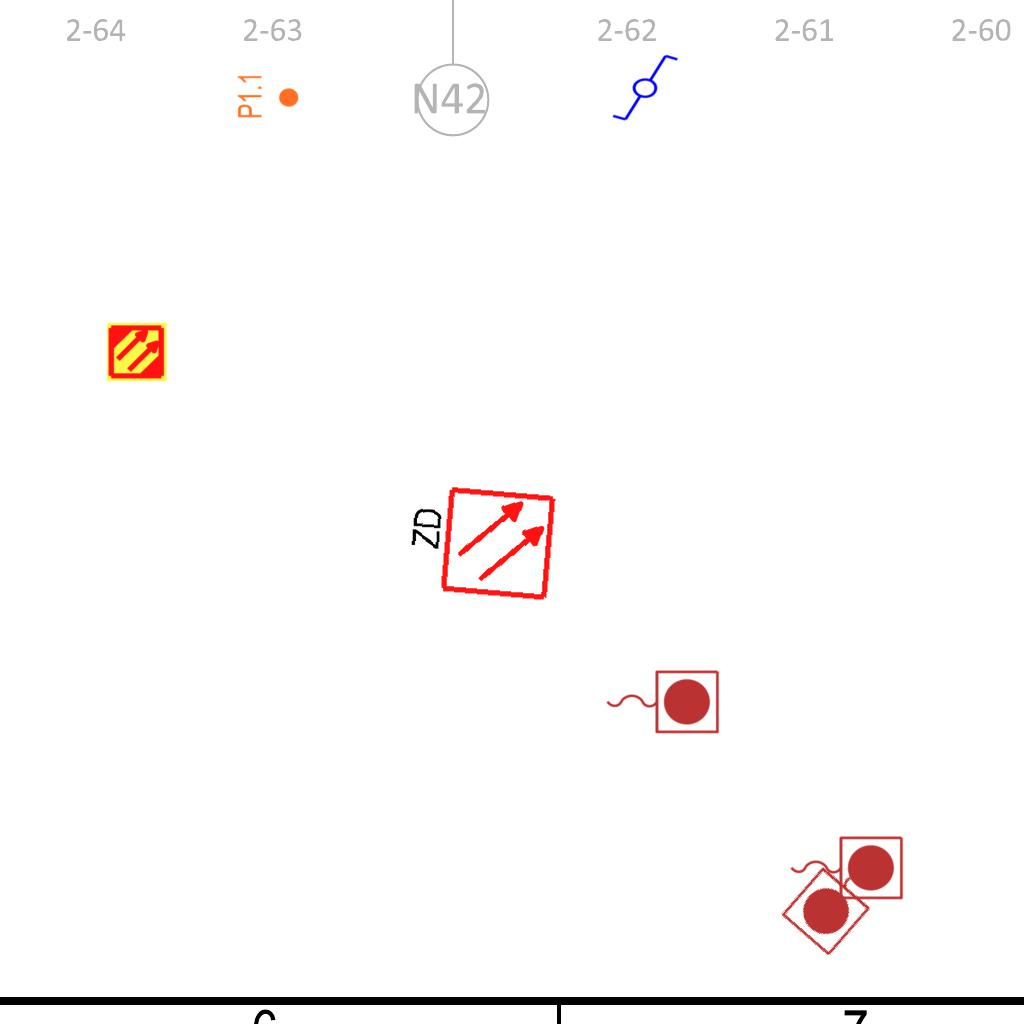ASR_Ansaugrauchmelder: (106, 321, 168, 383)
Downlight_LED_Einbauleuchten_Flur: (236, 73, 300, 119)
Wechselschalter: (602, 51, 680, 123)
ZD_Melder_in_Zwischendecke_mit_Revisionsoeffnung_mind_40_x_40_cm: (399, 480, 559, 607)
Zugtaster: (775, 823, 911, 963), (601, 665, 723, 737), (785, 831, 907, 903)
